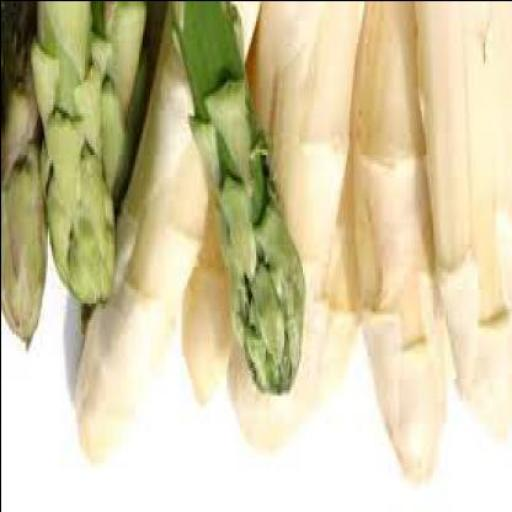biodegradable: (73, 2, 257, 468), (222, 2, 366, 450), (166, 2, 302, 400), (348, 2, 443, 490), (409, 3, 510, 439), (28, 2, 118, 308), (180, 106, 244, 408), (1, 1, 46, 353), (95, 2, 155, 213), (314, 168, 356, 399)
